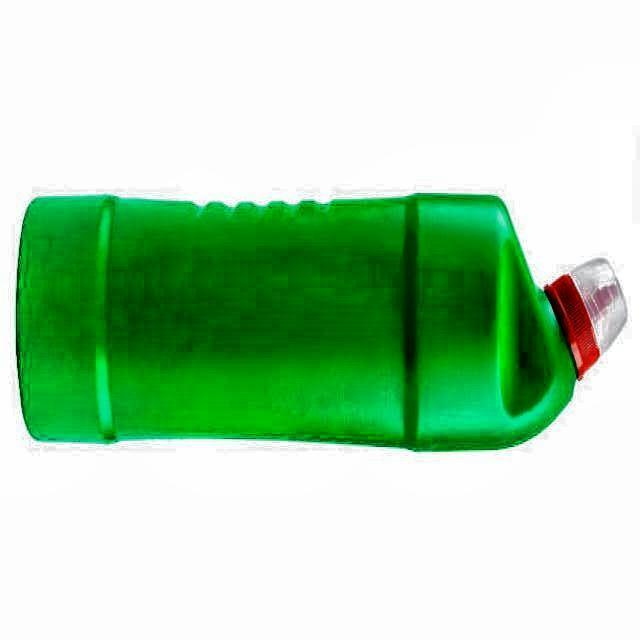plastic: (16, 194, 626, 450)
